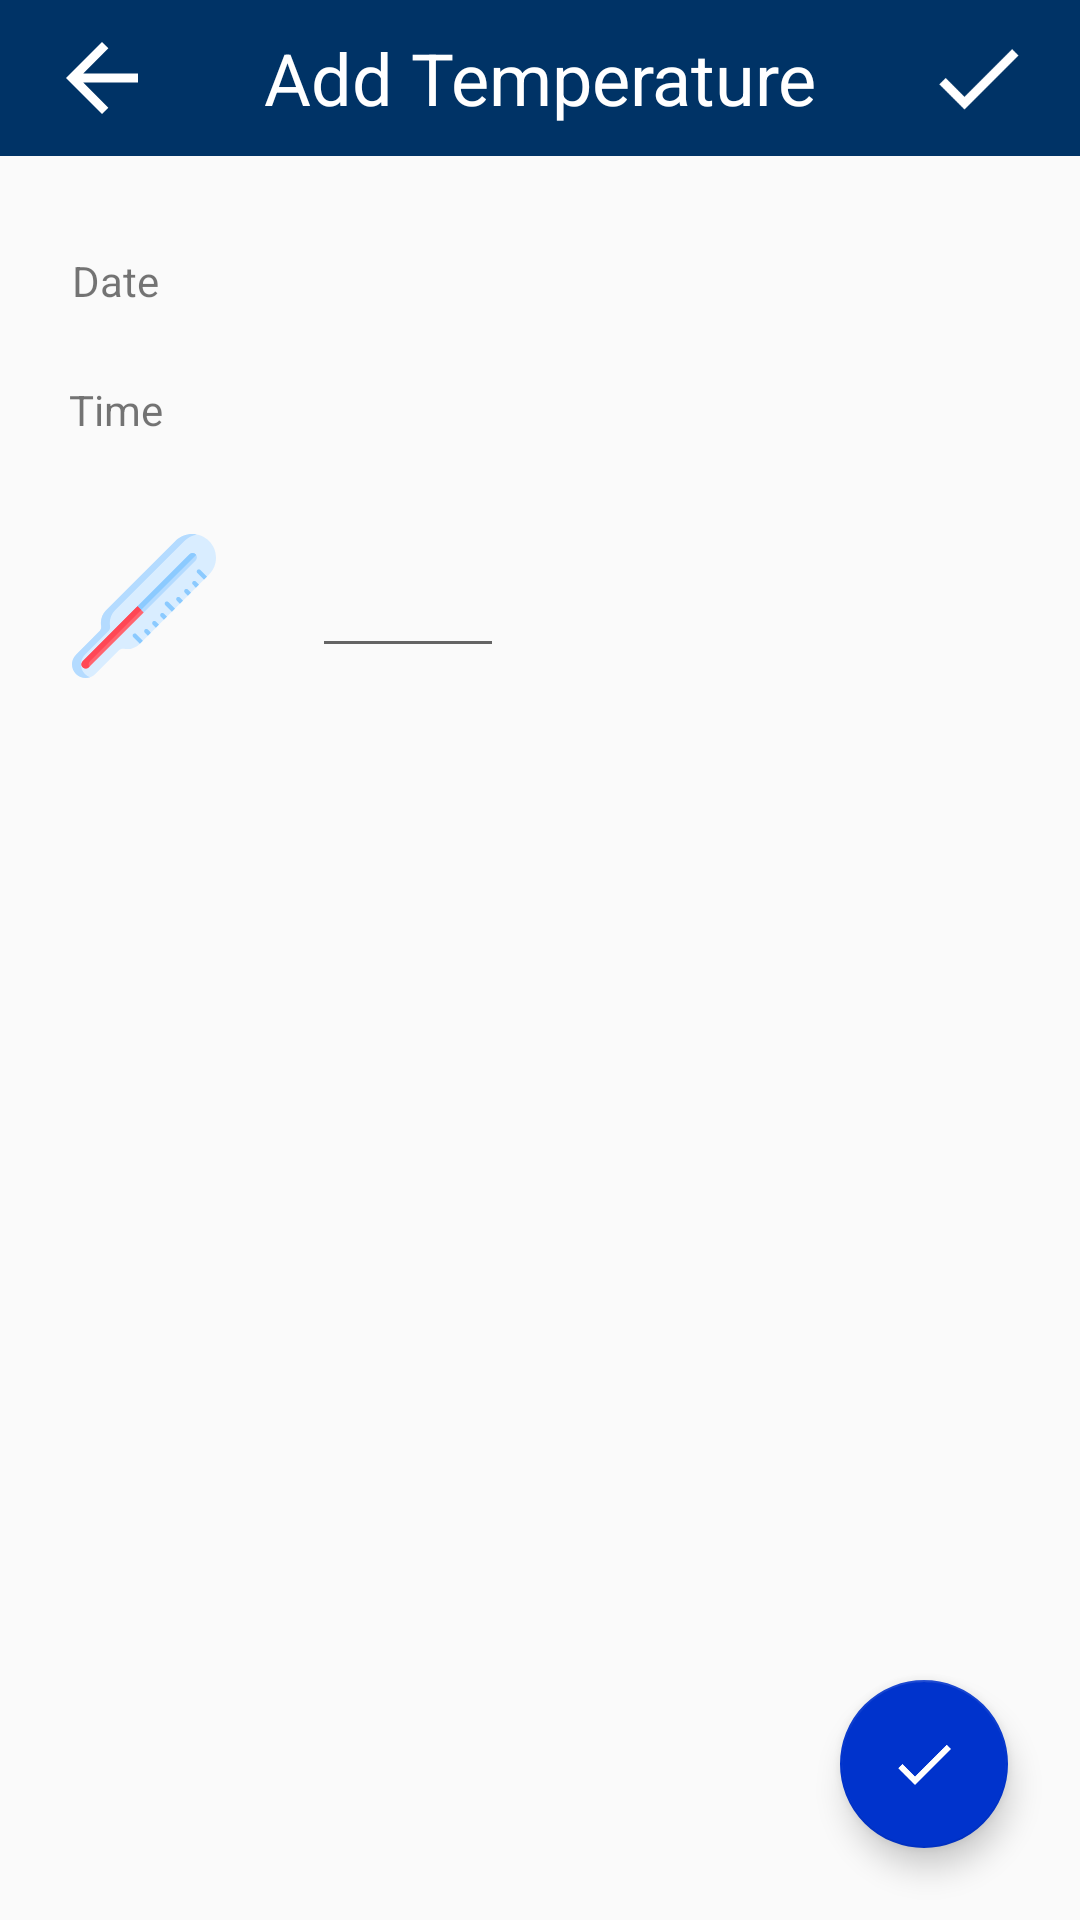

Icon click points for this 1080px×1920px phone screenshot, format (x,y):
back: (102,78)
check: (979,79), (924,1764)
thermometer: (144,606)
